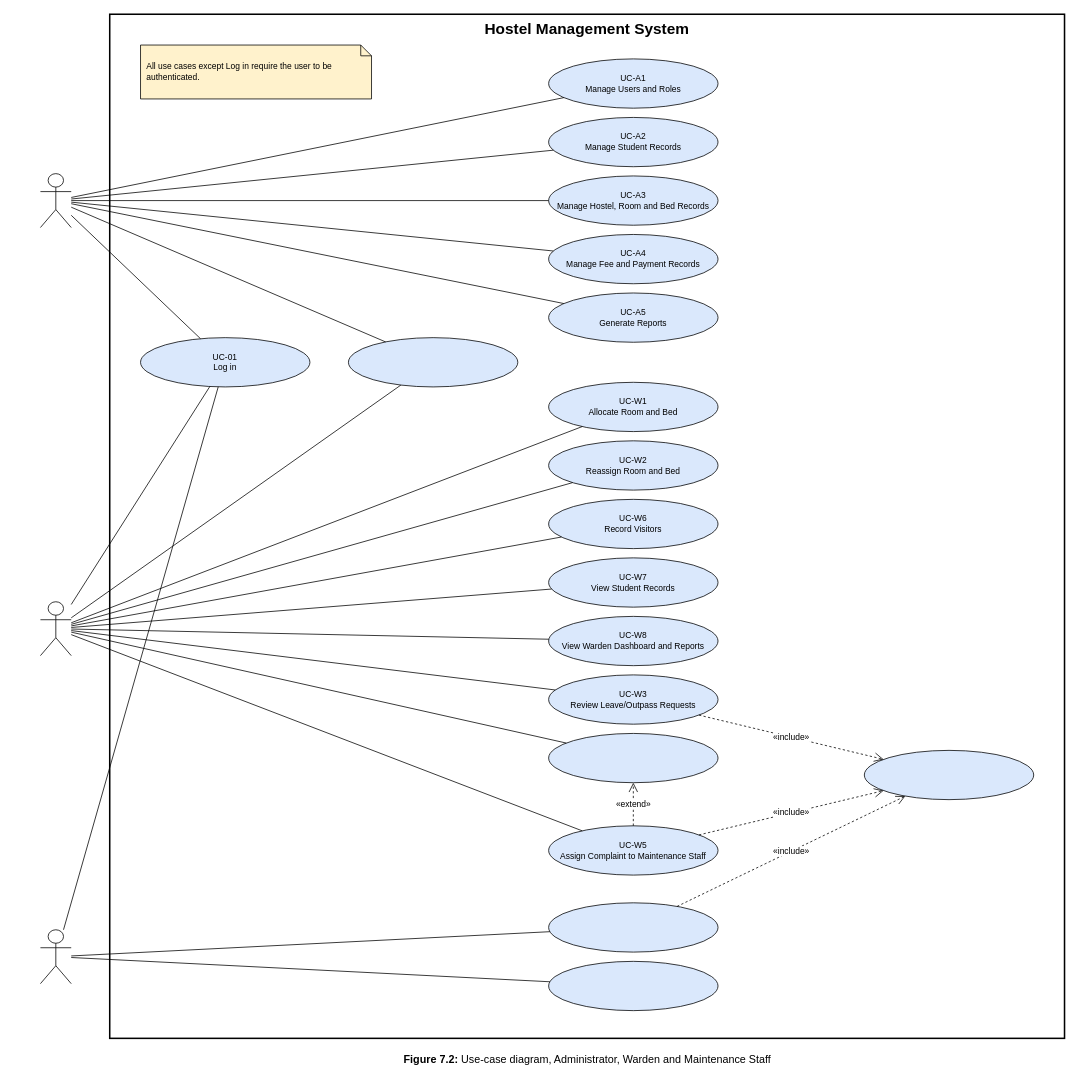
Some shapes in this 1079 by 1083 pixel diagram are drawn without their labels. The box of each missing label's shape, as (x1, y1, x2, y2) in pixels:
Administrator: (40, 173, 71, 228)
Maintenance Staff: (40, 929, 71, 984)
UC-02 Send Notification: (864, 750, 1034, 800)
UC-03 Post Announcement: (348, 337, 518, 387)
UC-M1 View Assigned Requests: (548, 961, 718, 1011)
UC-M2 Update Request Status: (548, 902, 718, 952)
UC-W4 Review Complaints: (548, 733, 718, 783)
Warden: (40, 601, 71, 656)
